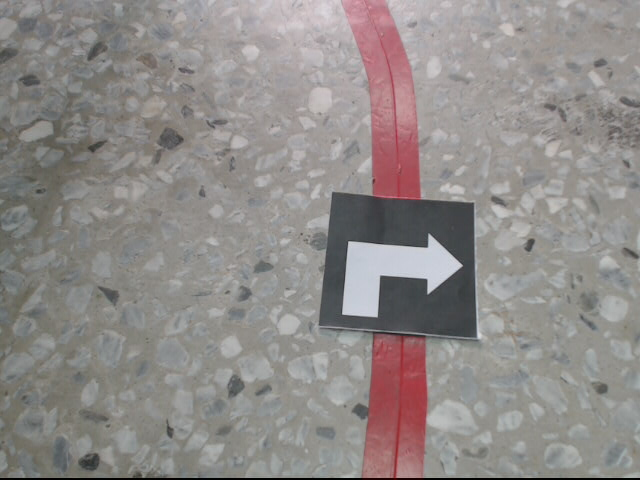right: (320, 190, 477, 341)
